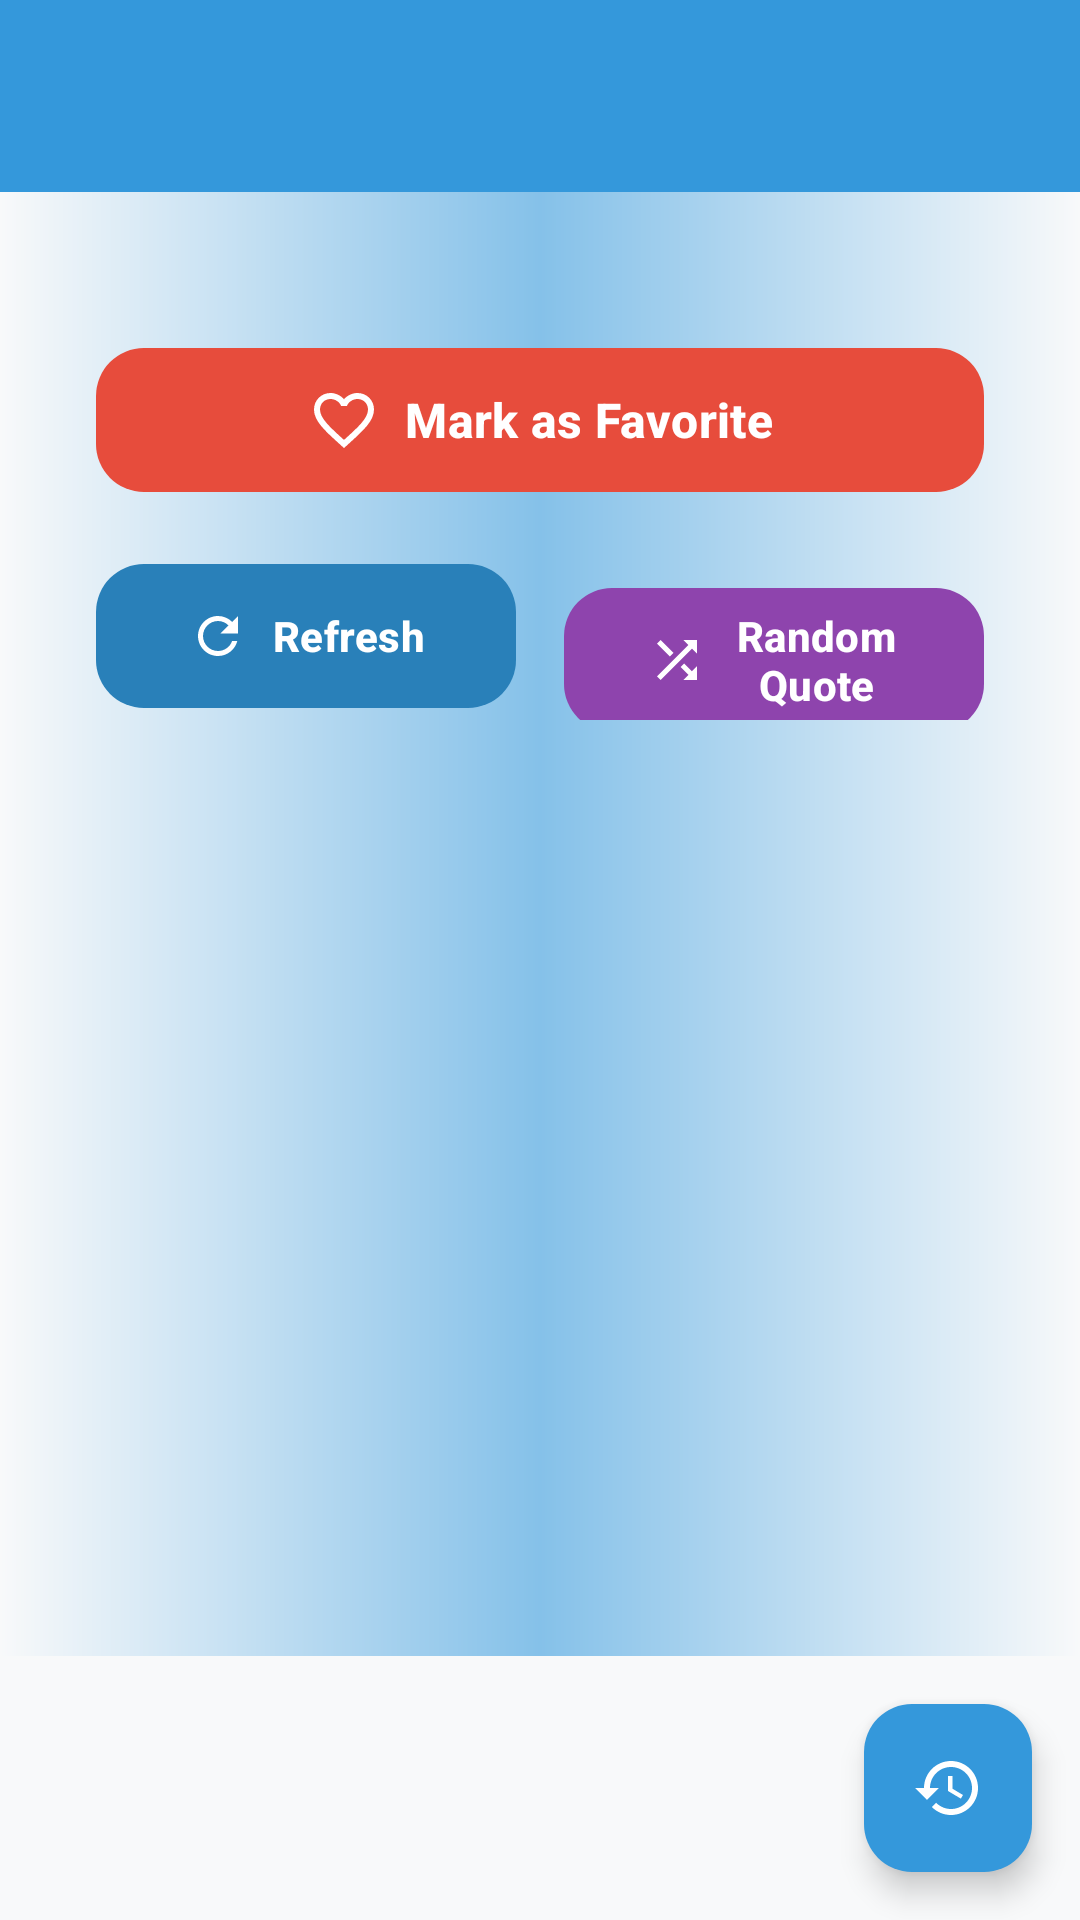

Screen size 1080×1920. Icon name, then its box in pixels as (x1, y1, x2, y2):
History: (864, 1704, 1032, 1872)
